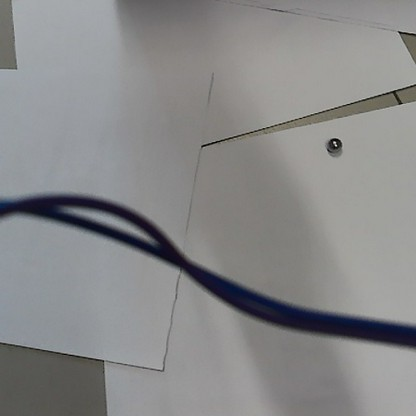ironball: (324, 135, 343, 155)
